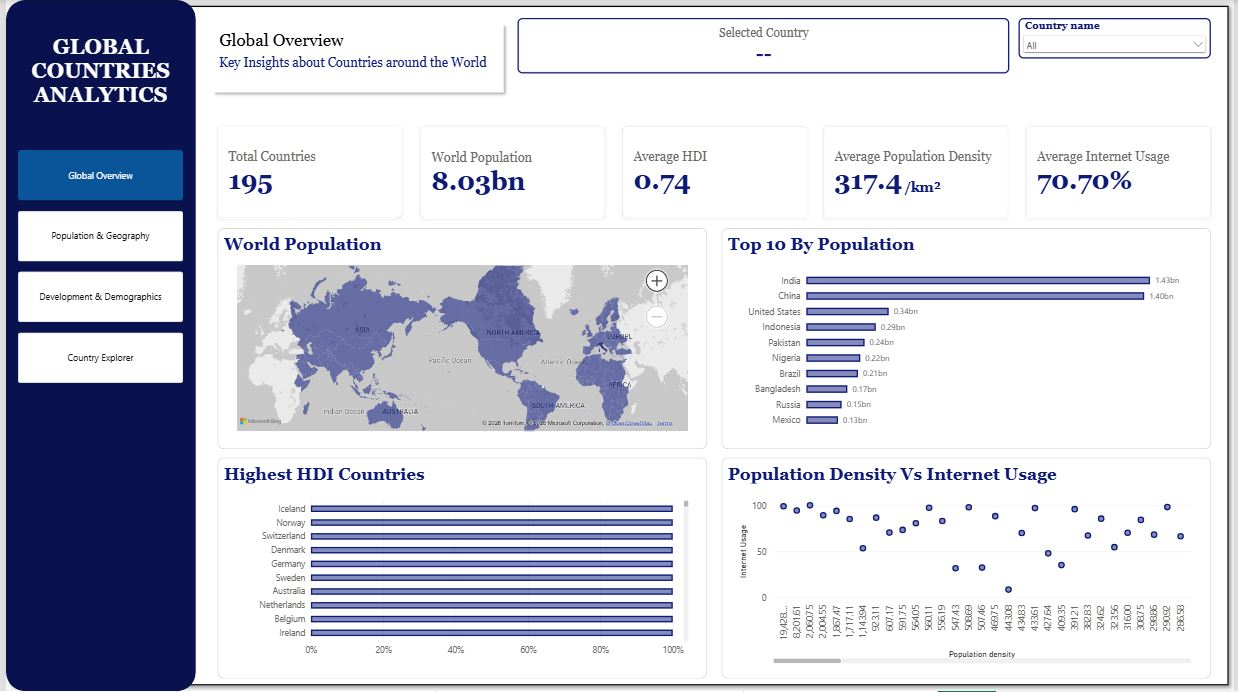

Layout of this report page (visuals, bound fields, positions):
{"tool":"powerbi","page":{"name":"Global Overview","canvas":[1920,1080],"ordinal":0},"visuals":[{"type":"shape","box":[0,0,1920.1,1080.4],"z":0},{"type":"shape","box":[313.1,27.1,472.3,124.9],"z":0,"group":"g1"},{"type":"shape","box":[0,0,296.8,1080.4],"z":1000},{"type":"shape","box":[331.2,86.8,421.7,38],"z":1000,"group":"g1"},{"type":"pageNavigator","box":[18.1,235.3,258.8,365.6],"z":2000},{"type":"shape","box":[18.1,27.1,258.8,170.1],"z":3000},{"type":"group","id":"g1","title":"Group 1","box":[313.1,27.1,472.3,124.9],"z":4000},{"type":"cardVisual","fields":{"Data":["country_stats.Total Countries"]},"box":[331.2,197.3,289.5,144.8],"z":5000},{"type":"cardVisual","fields":{"Data":["country_stats.World Population"]},"box":[647,197.3,289.5,144.8],"z":6000},{"type":"cardVisual","fields":{"Data":["country_stats.Avg Interet Usage"]},"box":[1594.3,197.3,289.5,144.8],"z":7000},{"type":"cardVisual","fields":{"Data":["country_stats.Average HDI"]},"box":[962.7,197.3,289.5,144.8],"z":8000},{"type":"cardVisual","fields":{"Data":["country_stats.Average Population Density"]},"box":[1278.5,197.3,289.5,144.8],"z":9000,"group":"g2"},{"type":"shape","box":[331.2,356.5,765.5,345.6],"z":9000},{"type":"shape","box":[1118.4,356.5,765.5,345.6],"z":10000},{"type":"shape","box":[331.2,714.8,765.5,345.6],"z":11000},{"type":"shape","box":[1118.4,714.8,765.5,345.6],"z":12000},{"type":"group","id":"g2","title":"Group 2","box":[1278.5,197.3,289.5,144.8],"z":13000},{"type":"filledMap","fields":{"Category":["country_stats.Country name"]},"box":[345.6,401.7,738.3,287.7],"z":14000},{"type":"textbox","box":[1406,281.9,72.4,38],"z":15000,"group":"g2"},{"type":"clusteredBarChart","fields":{"Category":["country_stats.Country name"],"Y":["Sum(country_stats.Population)"]},"box":[1136.5,401.7,731.1,287.7],"z":15000},{"type":"hundredPercentStackedBarChart","fields":{"Category":["country_stats.Country name"],"Y":["Sum(country_stats.HDI)"]},"box":[345.6,760.1,738.3,285.9],"z":16000},{"type":"scatterChart","fields":{"X":["country_stats.Population density"],"Y":["Sum(country_stats.% of internet users in population)"]},"box":[1129.2,760.1,738.3,293.2],"z":17000},{"type":"slicer","fields":{"Values":["country_stats.Country name"]},"box":[1583.5,27.1,300.4,63.3],"z":18000},{"type":"cardVisual","title":"Country ","fields":{"Data":["country_stats.Country Names"]},"box":[799.5,28.1,769,86.7],"z":18001}]}

Visuals, with their boxes in screenshot pixels (x1, y1, x2, y2), scaled from the page's 1920x1080 canvas onto the 1238x692 screenshot:
shape: [0,0,1237,691]
shape: [202,17,506,97]
shape: [0,0,191,691]
shape: [214,56,485,80]
pageNavigator: [12,151,179,385]
shape: [12,17,179,126]
"Group 1" group: [202,17,506,97]
cardVisual - country_stats.Total Countries: [214,126,400,219]
cardVisual - country_stats.World Population: [417,126,604,219]
cardVisual - country_stats.Avg Interet Usage: [1028,126,1215,219]
cardVisual - country_stats.Average HDI: [621,126,807,219]
cardVisual - country_stats.Average Population Density: [824,126,1011,219]
shape: [214,228,707,450]
shape: [721,228,1215,450]
shape: [214,458,707,679]
shape: [721,458,1215,679]
"Group 2" group: [824,126,1011,219]
filledMap - country_stats.Country name: [223,257,699,442]
textbox: [907,181,953,205]
clusteredBarChart - country_stats.Country name x Sum(country_stats.Population): [733,257,1204,442]
hundredPercentStackedBarChart - country_stats.Country name x Sum(country_stats.HDI): [223,487,699,670]
scatterChart - country_stats.Population density x Sum(country_stats.% of internet users in population): [728,487,1204,675]
slicer - country_stats.Country name: [1021,17,1215,58]
"Country " cardVisual: [516,18,1011,74]
